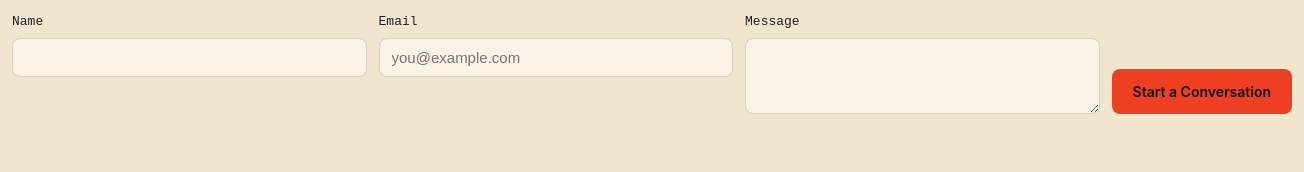
Test: InquiryForm › does not fake a partner inquiry submission when no endpoint is configured
The image size is (1304, 172).
Type "Guest" into the field labelled "Name" at (189, 57), box top-left (12, 38), bottom-right (366, 76)
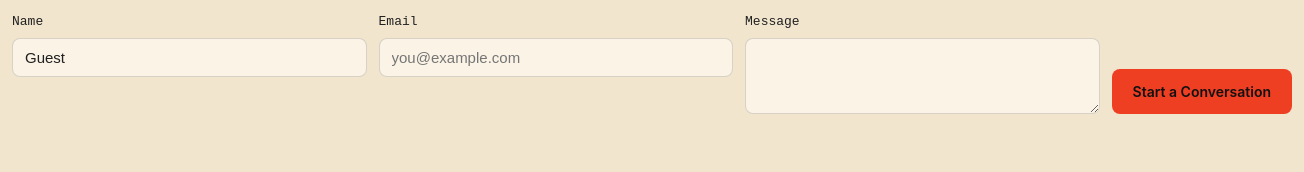
Type "guest@example.com" into the field labelled "Email" at (556, 57), box top-left (378, 38), bottom-right (733, 76)
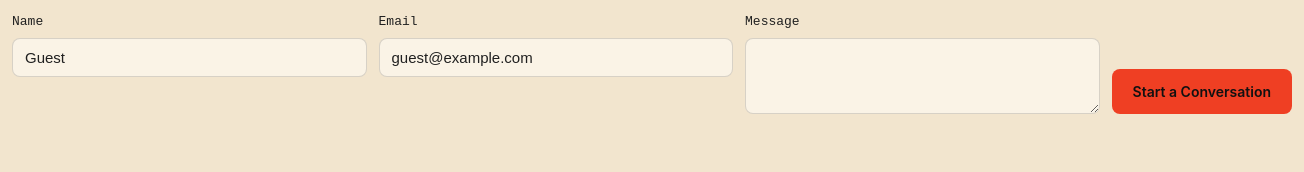
Click the button "Start a Conversation" at (1202, 91), box top-left (1112, 68), bottom-right (1292, 114)
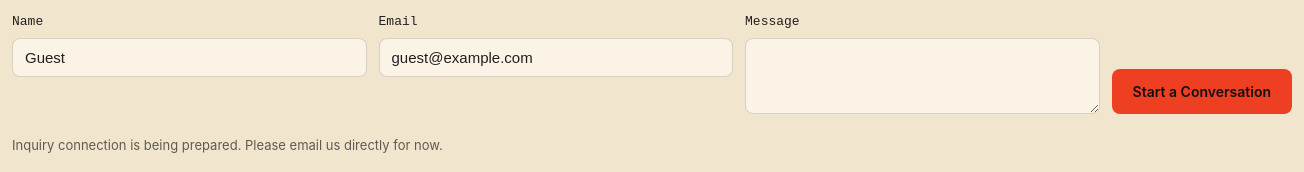
Now the text "Inquiry connection is being prepared. Please email us directly for now." is shown, box top-left (12, 136), bottom-right (443, 155)
